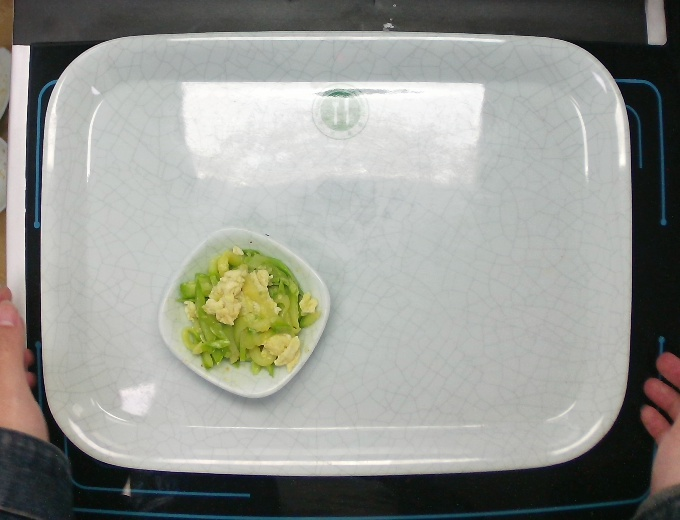JYsf-Si_Fang_Die: (149, 216, 346, 410)
